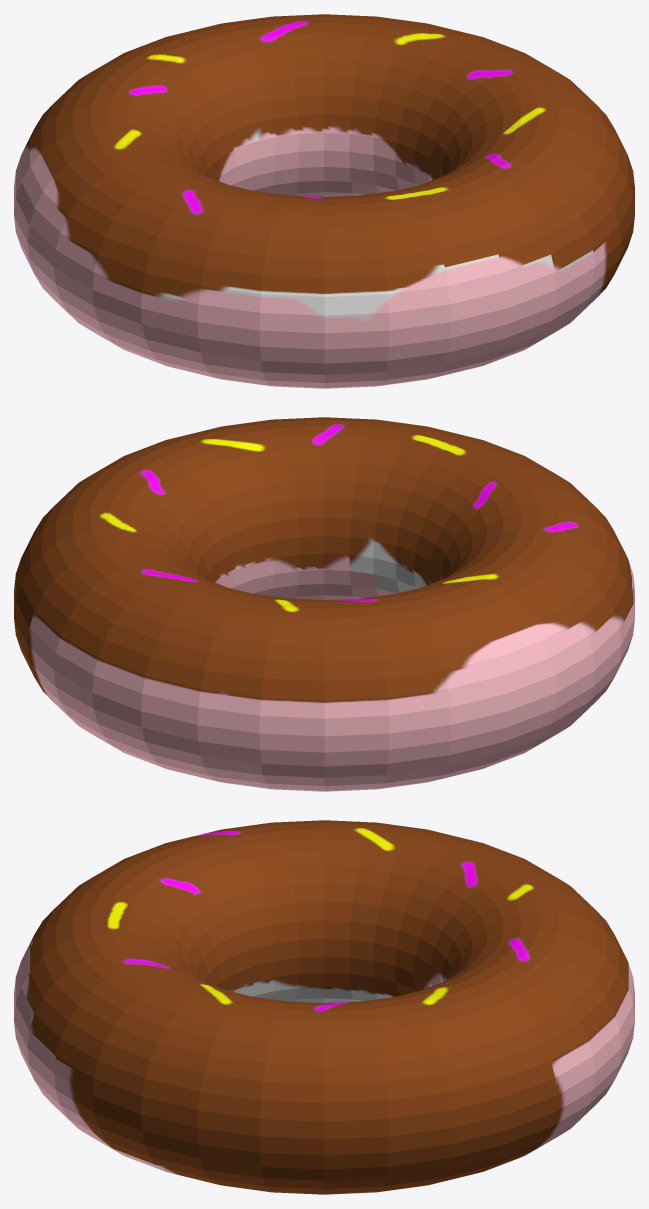
3 renders of one model, top to bottom at view 1: azimuth 30°, elevation 25°; view 2: azimuth 150°, elevation 25°; view 3: azimuth 270°, elevation 25°, orthographic.
Parts seen in each view (by area): view 1: algeomath (1); view 2: algeomath (1); view 3: algeomath (1).
Boxes of the visible parts, x1,y1,x2,y2 form: algeomath (1): (14,14,634,388); algeomath (1): (14,417,634,791); algeomath (1): (14,820,634,1194).
Bounding box in the file's own units: 0.3 × 0.0922 × 0.2984.
Materials: 1 (1 with a texture image).
